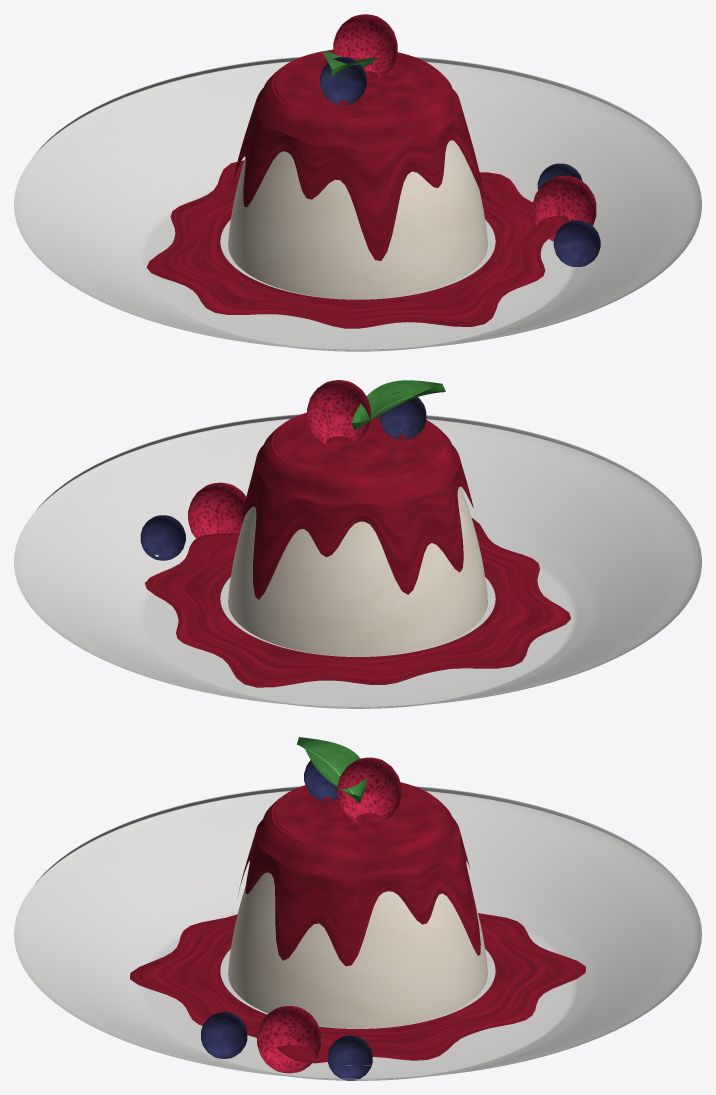
Rendered from pannacotta.glb.
3 views of the same model, one above another, from view 1: azimuth 30°, elevation 25°; view 2: azimuth 150°, elevation 25°; view 3: azimuth 270°, elevation 25° (orthographic).
Visible parts, largest first — view 1: pannacotta; view 2: pannacotta; view 3: pannacotta.
Part boxes in pixels (bbox=[...]): pannacotta: bbox=[14, 14, 701, 351]; pannacotta: bbox=[14, 380, 701, 708]; pannacotta: bbox=[14, 737, 701, 1080].
Size of the model in its own units: 0.18 by 0.0681 by 0.18.
6 materials, 5 textured.
